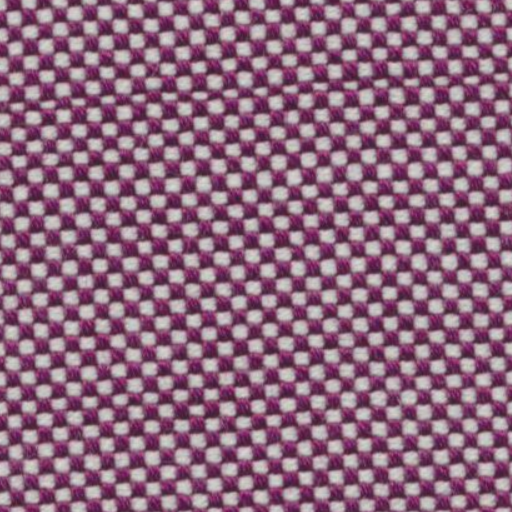TuoSha: (16, 70, 492, 114)
